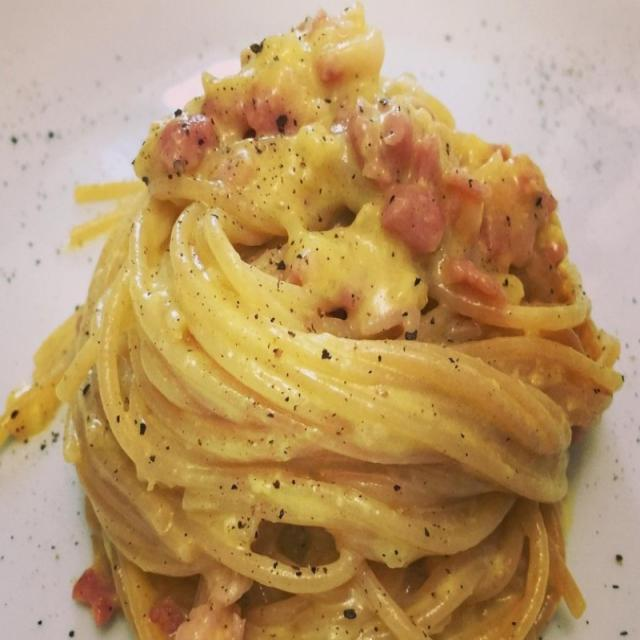Pasta with carbonara sauce: (48, 19, 623, 625)
